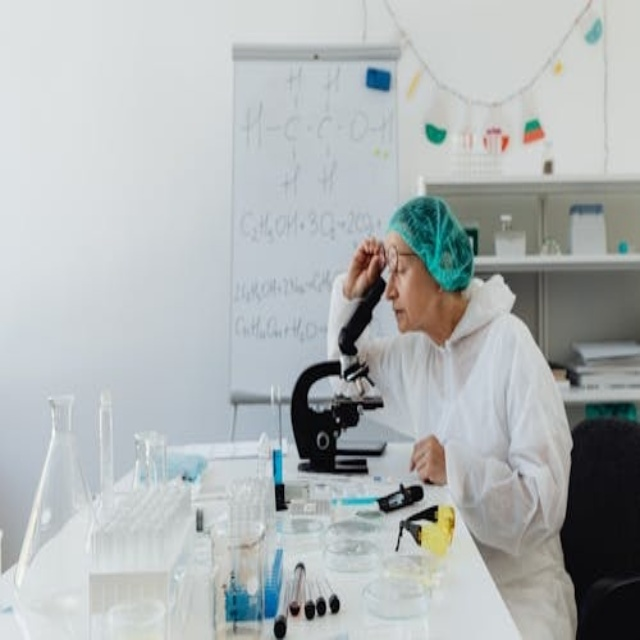Gafas: (371, 234, 424, 269)
Sin_guantes: (337, 234, 387, 300), (409, 434, 446, 485)
Sin_mascara: (390, 300, 411, 331)
